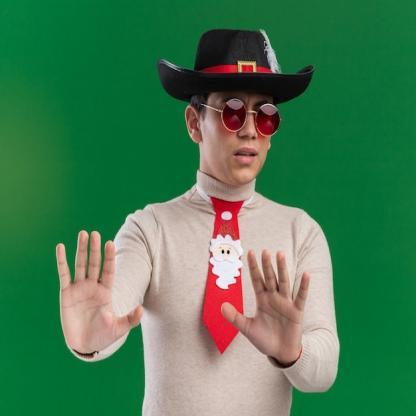stop: (51, 226, 146, 355), (218, 251, 316, 362)
